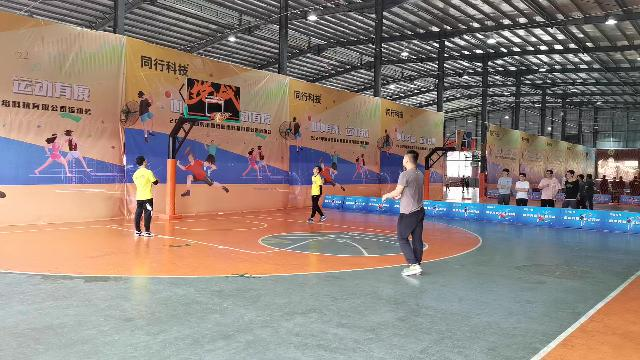basket: (213, 112, 231, 122)
goal: (214, 114, 222, 122)
